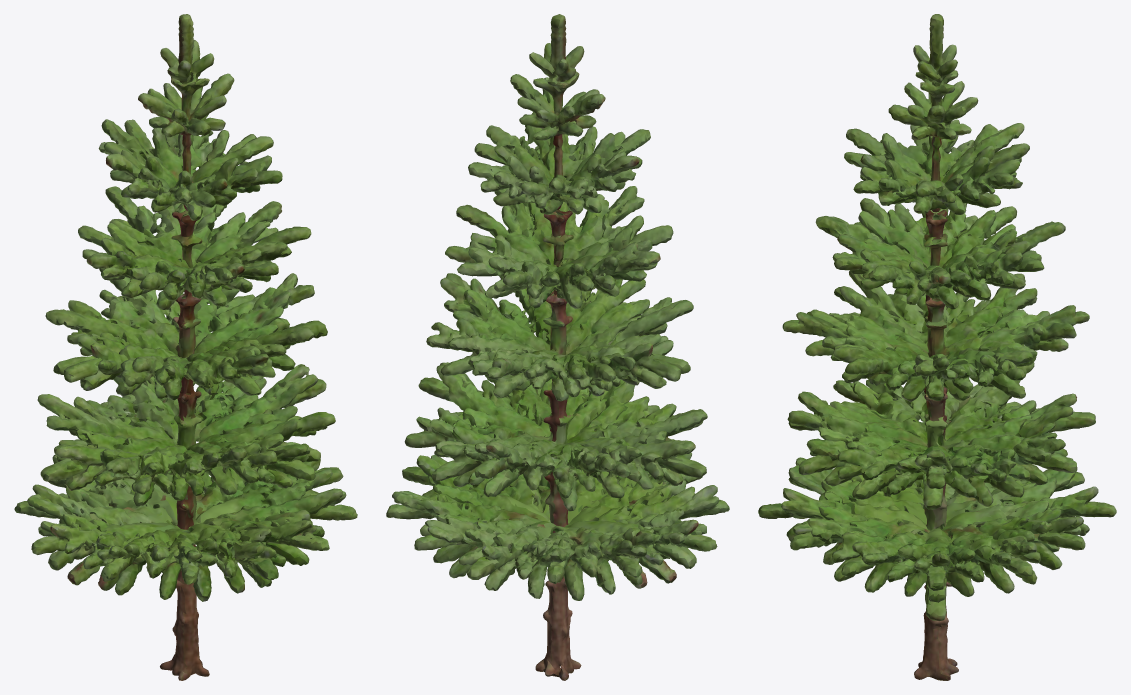
Rendered from fir-sapling.glb.
3 views of the same model, side by side, from view 1: azimuth 30°, elevation 25°; view 2: azimuth 150°, elevation 25°; view 3: azimuth 270°, elevation 25° (orthographic).
Visible parts, largest first — view 1: geometry_0; view 2: geometry_0; view 3: geometry_0.
Part boxes in pixels (<box>): geometry_0: <box>14,14,357,680</box>; geometry_0: <box>386,14,729,680</box>; geometry_0: <box>758,14,1116,680</box>.
Size of the model in its own units: 35633 by 72087 by 35589.
1 material, 1 textured.
